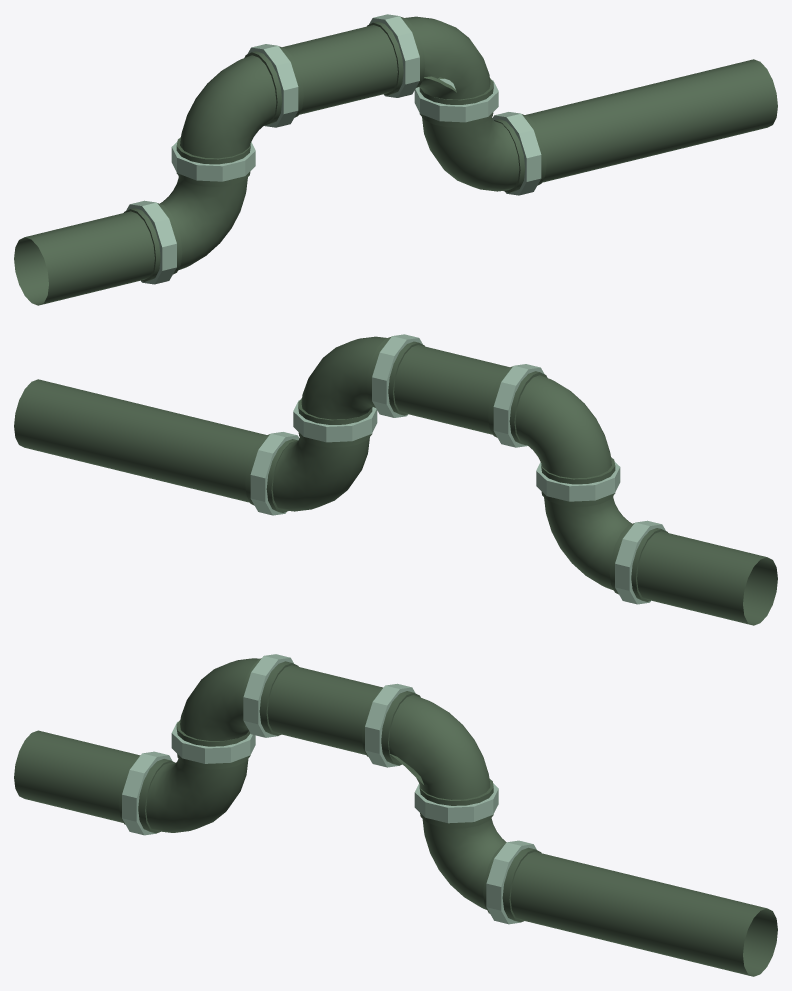
The model's file is PipeComplexLarge_A1_13.fbx.
The picture shows the model from 3 angles, top to bottom: view 1: azimuth 30°, elevation 25°; view 2: azimuth 150°, elevation 25°; view 3: azimuth 330°, elevation 25°; orthographic projection.
Visible parts, largest first — view 1: PipeComplexLarge_A1_13.001; view 2: PipeComplexLarge_A1_13.001; view 3: PipeComplexLarge_A1_13.001.
Part boxes in pixels (bbox=[...]): PipeComplexLarge_A1_13.001: bbox=[14, 14, 777, 305]; PipeComplexLarge_A1_13.001: bbox=[14, 334, 777, 625]; PipeComplexLarge_A1_13.001: bbox=[14, 654, 777, 976].
Size of the model in its own units: 2.4 by 0.6411 by 0.2293.
